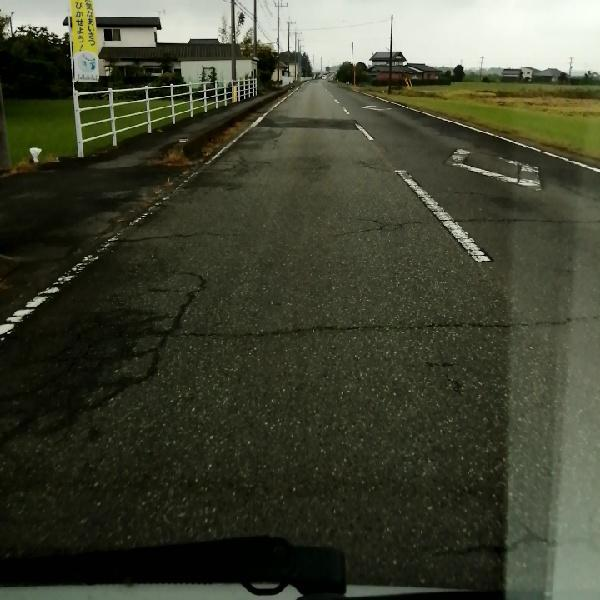D10: (145, 311, 595, 347), (416, 514, 594, 559), (327, 213, 599, 239), (118, 218, 224, 249)
D20: (41, 272, 200, 420)
D44: (0, 123, 242, 341), (391, 166, 500, 267)
